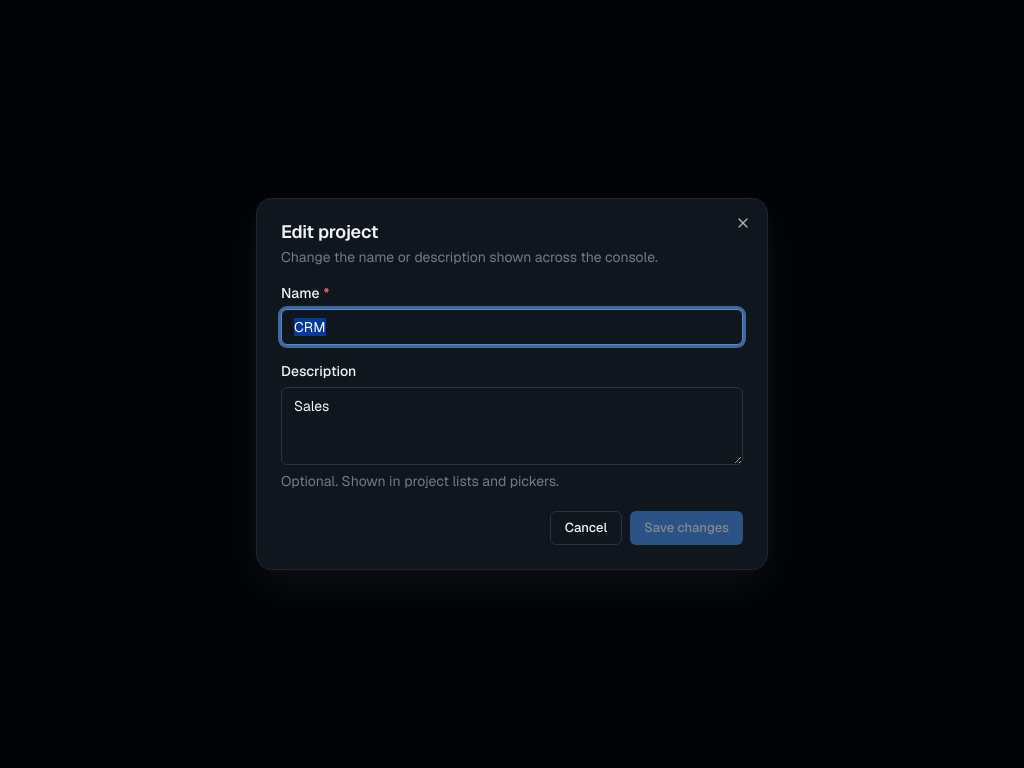
it: ProjectFormModal (edit) › keeps Save disabled until something changes
Check: the button "Save changes" is disabled, box x1=630 y1=511 x2=743 y2=545
Replace the text in the field labelled "Name*" with "CRM v2". click: (512, 327)
box: x1=281 y1=309 x2=743 y2=345
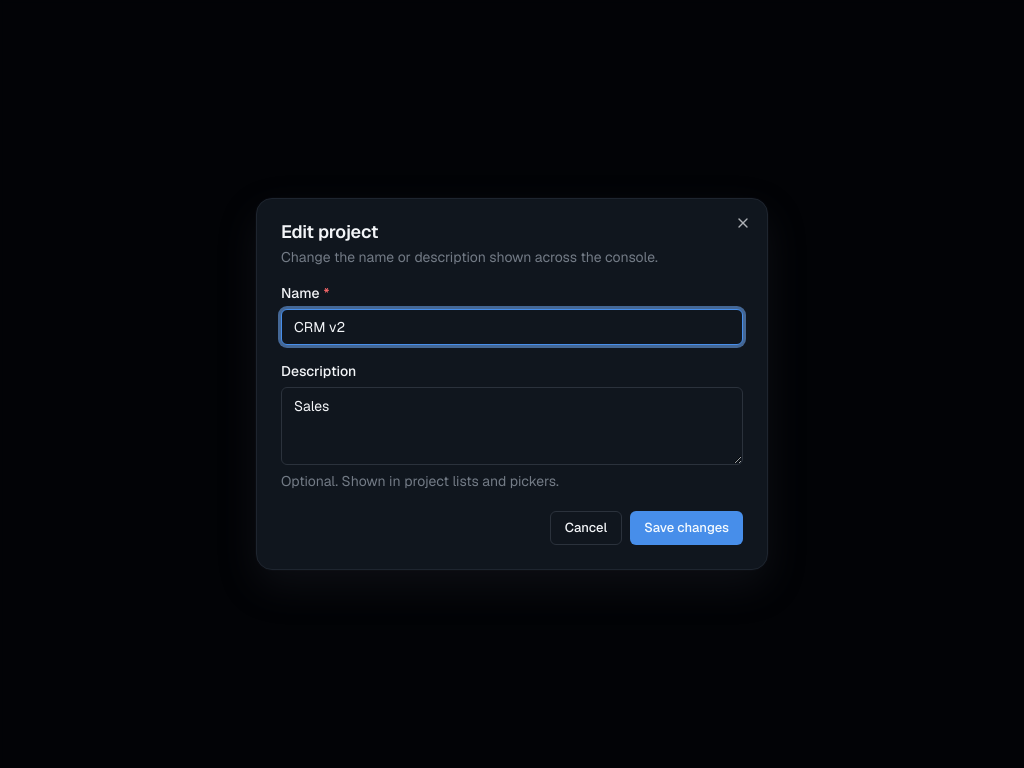
Check: the button "Save changes" is enabled, box x1=630 y1=511 x2=743 y2=545
